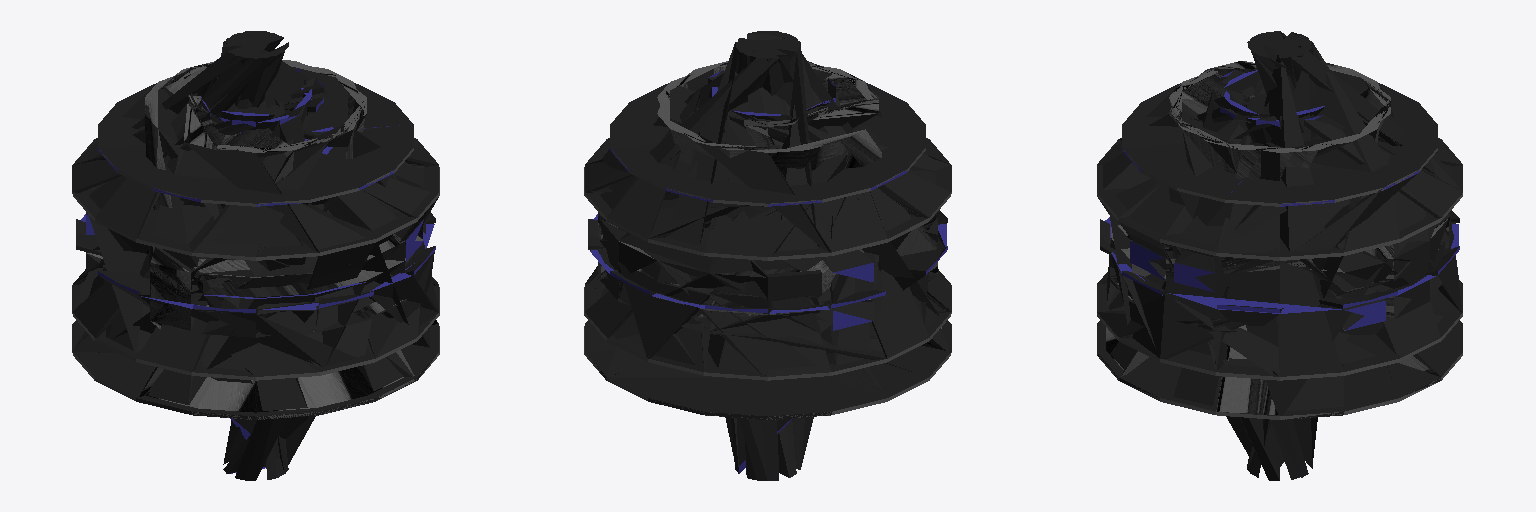
The picture shows the model from 3 angles: view 1: azimuth 30°, elevation 25°; view 2: azimuth 150°, elevation 25°; view 3: azimuth 270°, elevation 25°; orthographic projection.
Visible parts, largest first — view 1: Scifi_structure_Module_01, Inside_scifi_structure_Module_01; view 2: Scifi_structure_Module_01, Inside_scifi_structure_Module_01; view 3: Scifi_structure_Module_01, Inside_scifi_structure_Module_01.
Part boxes in pixels (x1,y1,x2,y2): Scifi_structure_Module_01: (72, 31, 438, 480); Inside_scifi_structure_Module_01: (72, 83, 439, 419); Scifi_structure_Module_01: (585, 31, 951, 480); Inside_scifi_structure_Module_01: (584, 83, 951, 419); Scifi_structure_Module_01: (1097, 31, 1462, 480); Inside_scifi_structure_Module_01: (1097, 83, 1462, 419).
Bounding box in the file's own units: 4.45 × 5.57 × 4.38.
9 materials, 2 textured.